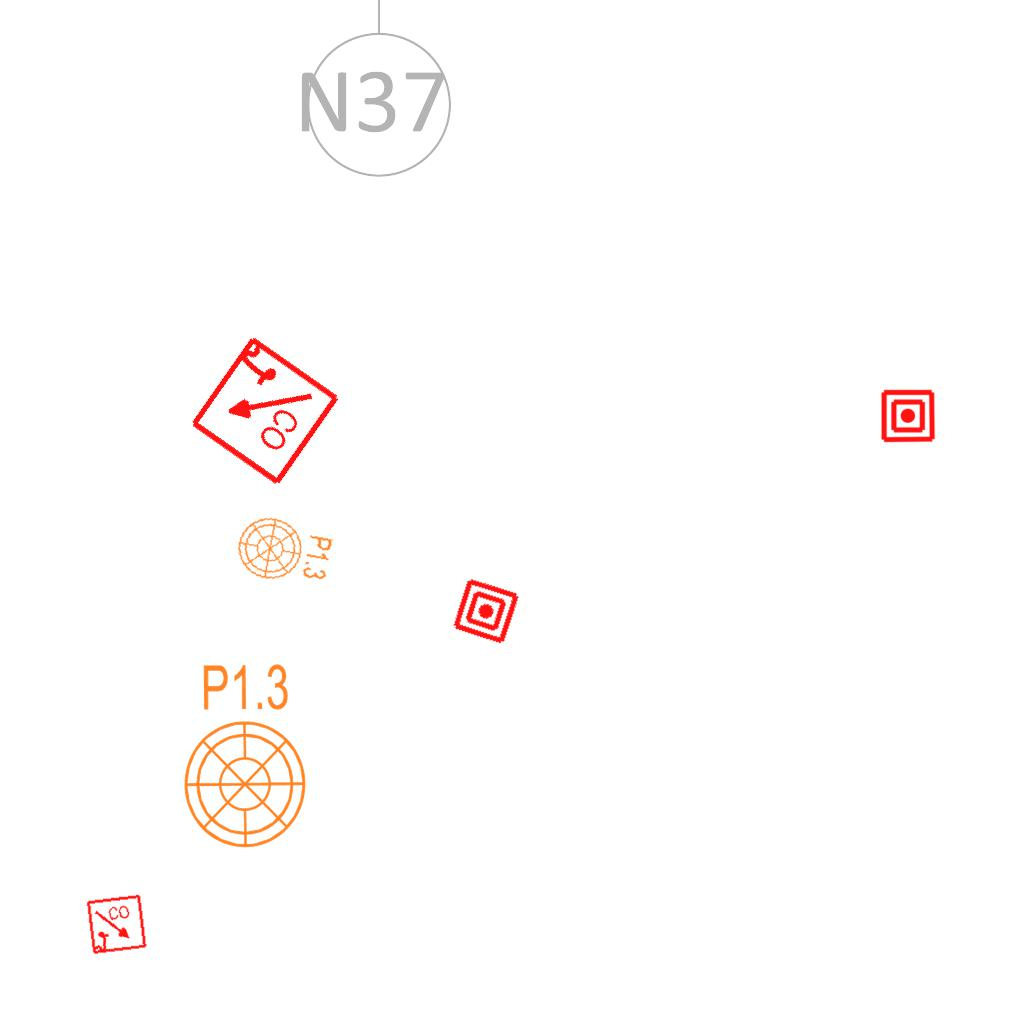Aufbaurundleuchte_LED_Treppenhaus: (181, 646, 320, 851), (230, 510, 344, 599)
NAM-Nichtautomatischer_Melder: (450, 575, 522, 647), (880, 388, 936, 444)
ROA_Rauchmelder_optisch_mit_Signalgeber_(Sockelsirene): (184, 331, 343, 490), (85, 893, 149, 957)
